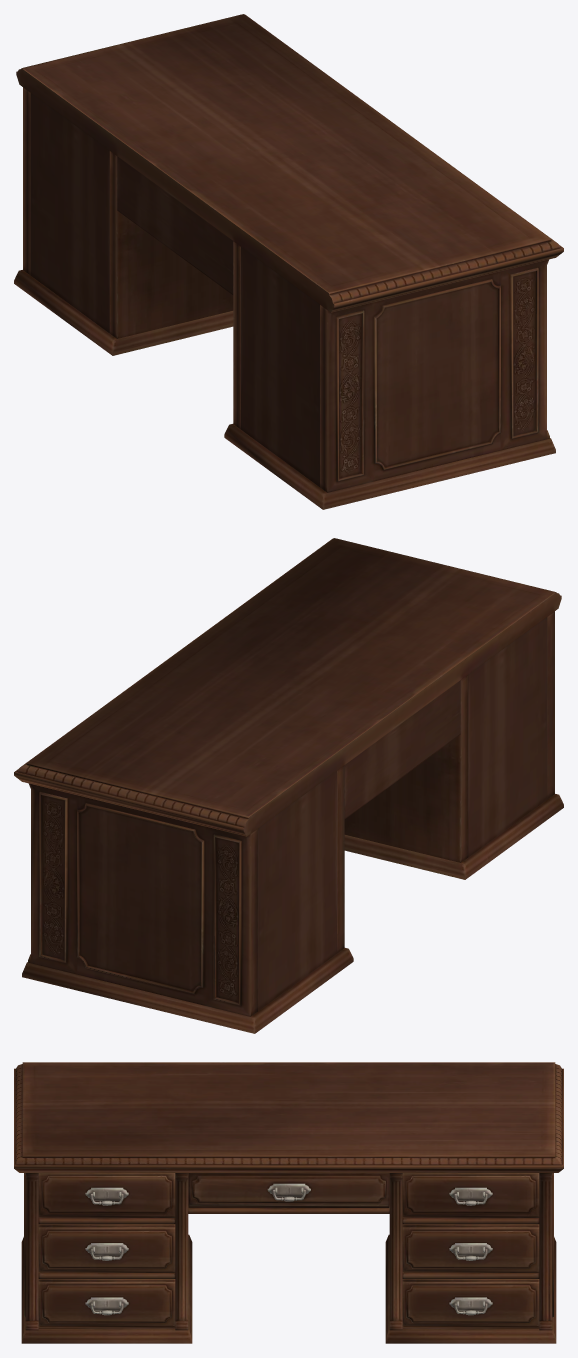
Rendered from desk_antique_wooden_lorenzo_drago.glb.
3 renders of one model, top to bottom at view 1: azimuth 30°, elevation 25°; view 2: azimuth 150°, elevation 25°; view 3: azimuth 270°, elevation 25°, orthographic. The views are drawn at different scales.
Parts seen in each view (by area): view 1: plane_lp.001_Material.004_0; view 2: plane_lp.001_Material.004_0; view 3: plane_lp.001_Material.004_0.
Part boxes in pixels (<box>): plane_lp.001_Material.004_0: <box>14,14,563,509</box>; plane_lp.001_Material.004_0: <box>14,538,563,1033</box>; plane_lp.001_Material.004_0: <box>14,1062,563,1343</box>.
Bounding box in the file's own units: 0.92 × 0.7967 × 2.14.
Materials: 1 (1 with a texture image).
